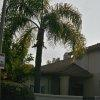Palm tree: (14, 1, 70, 87)
